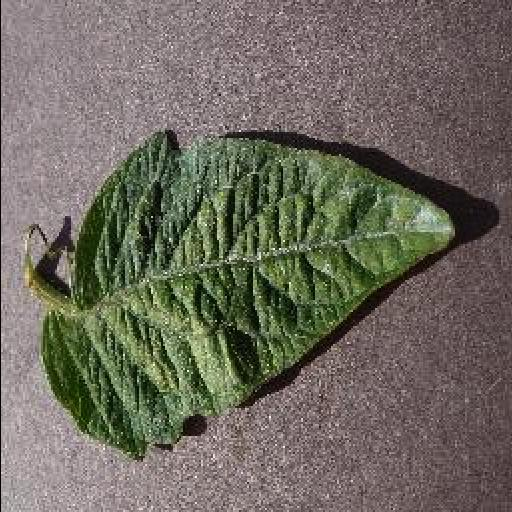disease_tomato: (41, 130, 459, 464)
